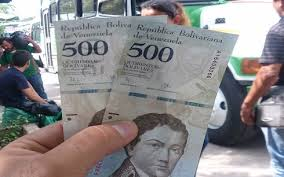billete: (54, 17, 239, 177)
